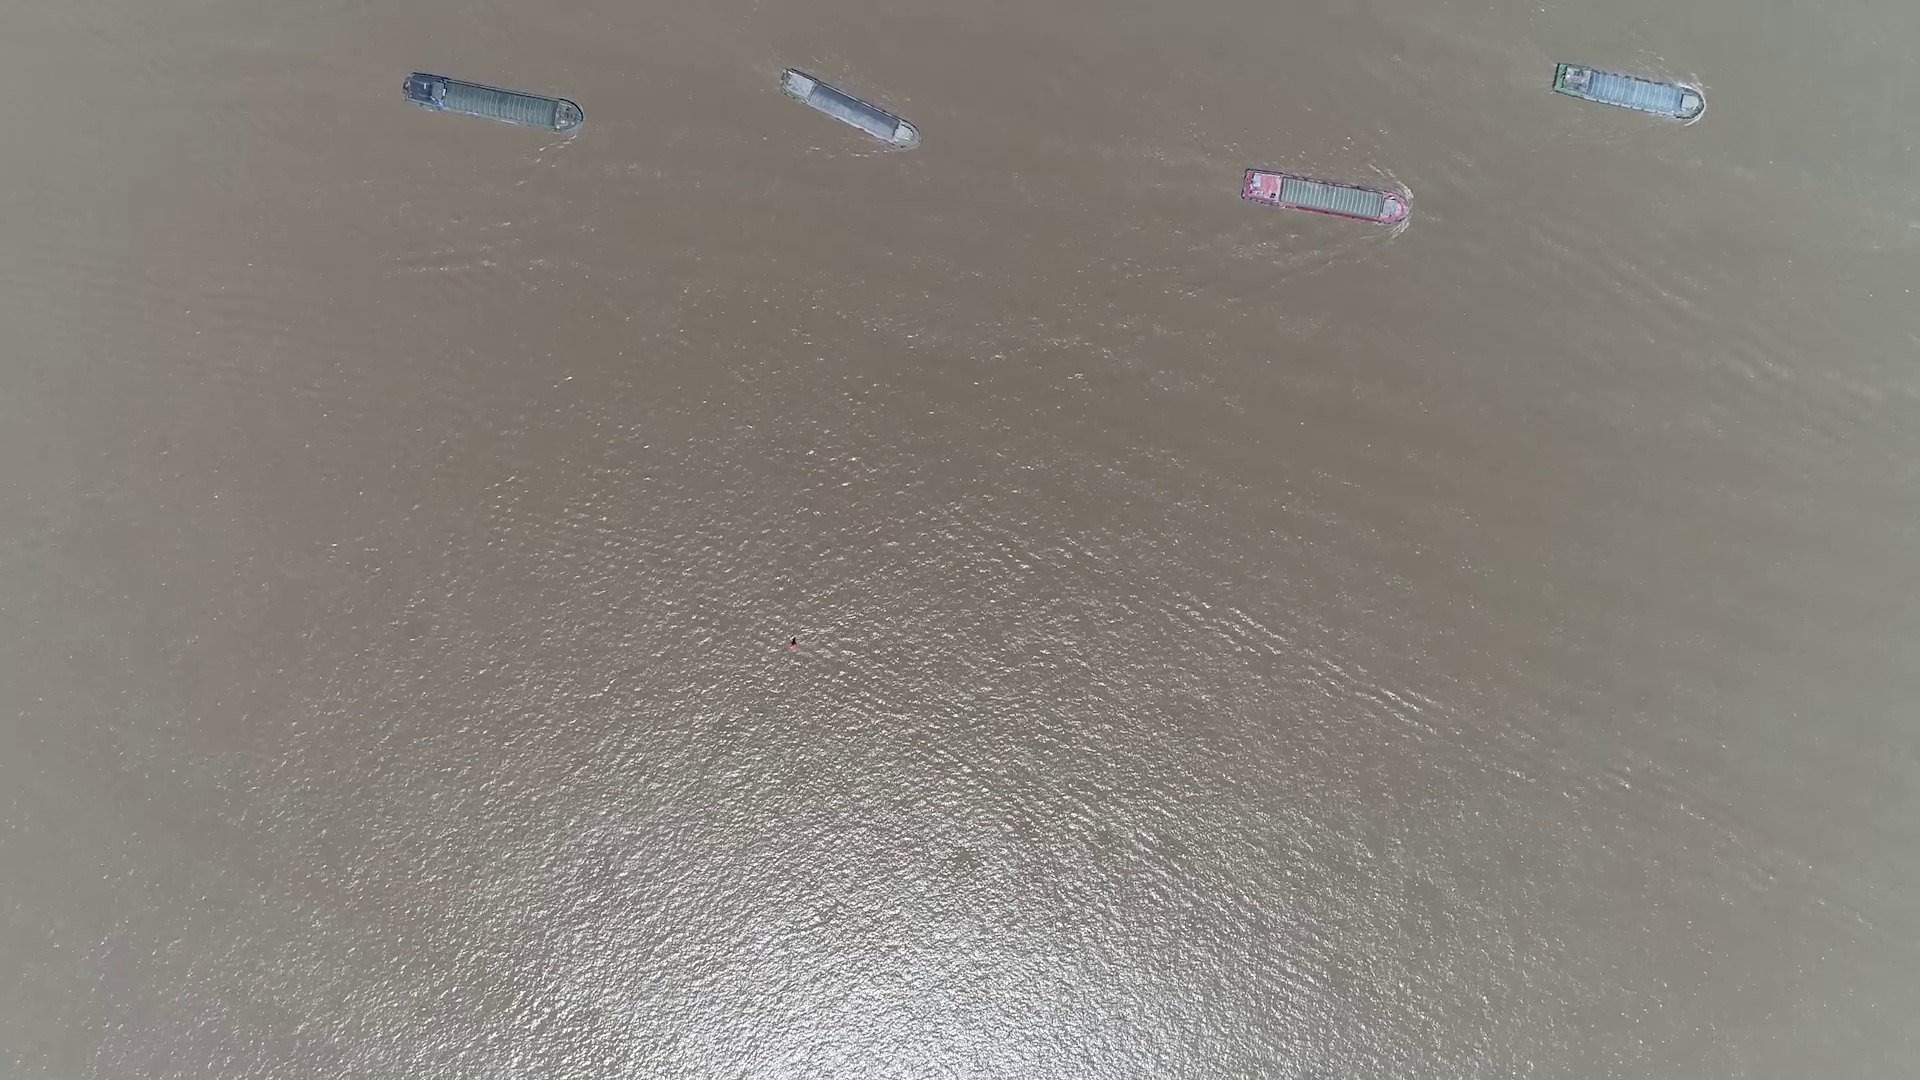ship: (402, 73, 583, 133), (778, 73, 918, 148), (1240, 170, 1411, 225), (1549, 66, 1704, 121)
